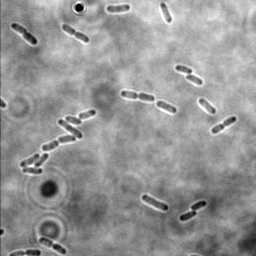Dividing: (10, 22, 39, 47), (60, 23, 90, 45), (40, 134, 76, 152), (37, 236, 69, 256), (209, 115, 238, 137), (120, 89, 156, 103), (7, 247, 42, 256), (177, 209, 198, 223), (190, 199, 208, 211)
Rod: (141, 193, 170, 214), (57, 118, 84, 140), (196, 96, 218, 117), (154, 99, 179, 116), (18, 151, 40, 169), (158, 1, 173, 25), (183, 73, 204, 87), (105, 3, 131, 14), (33, 152, 50, 168), (174, 63, 194, 76), (77, 108, 97, 121), (20, 166, 44, 176), (63, 115, 83, 125)
